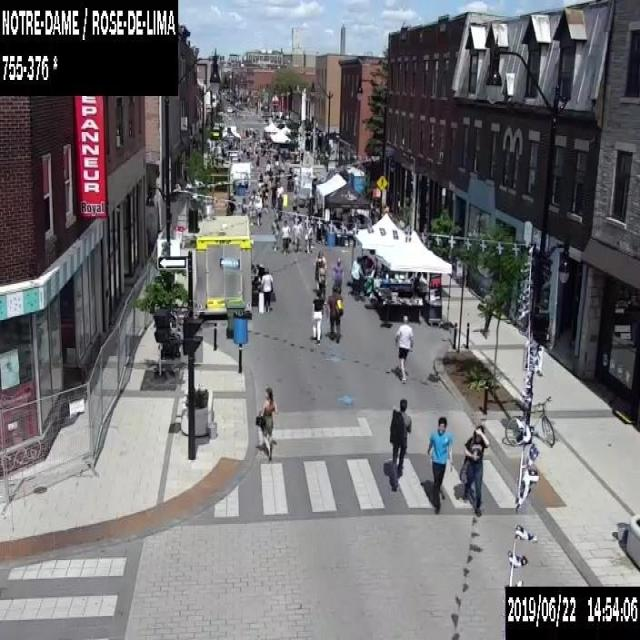pedestrian: (458, 424, 489, 516), (426, 416, 452, 513), (389, 397, 411, 491), (255, 386, 276, 459), (394, 314, 414, 382), (326, 286, 343, 342), (258, 267, 273, 313), (310, 290, 323, 343), (312, 249, 326, 290), (350, 256, 363, 300), (291, 218, 302, 252), (304, 222, 314, 255), (333, 256, 342, 292), (281, 219, 290, 255), (270, 218, 279, 252), (318, 260, 325, 298), (254, 193, 262, 224), (261, 182, 268, 213), (269, 182, 276, 208), (248, 195, 254, 224), (276, 192, 282, 219), (291, 190, 297, 212), (276, 184, 283, 196)
vehicle: (226, 105, 232, 112)
